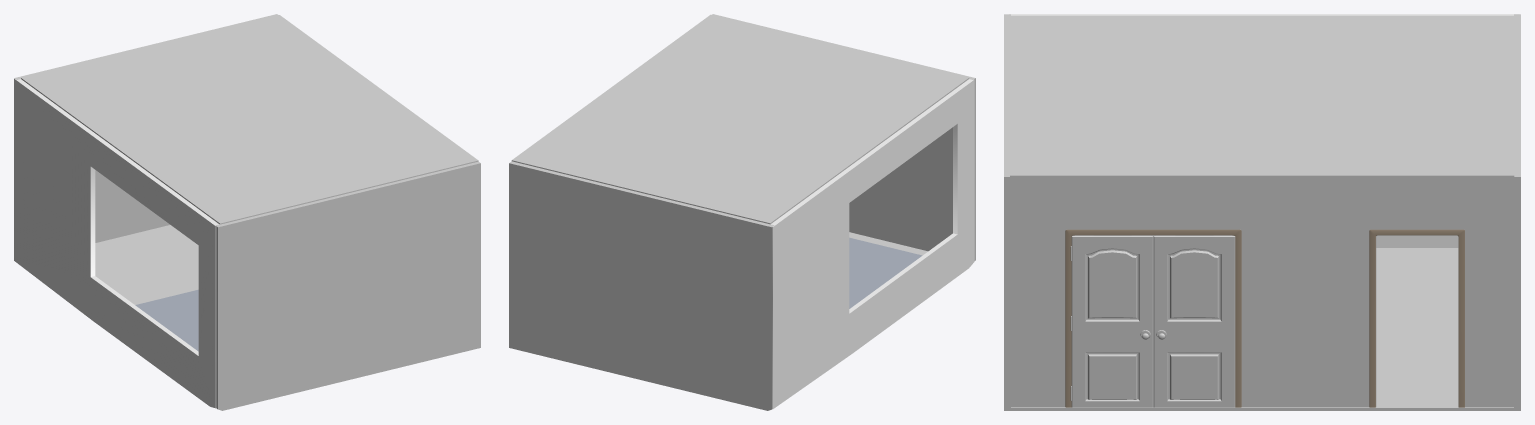
File: sm_room.fbx
3 renders of one model, left to right at view 1: azimuth 30°, elevation 25°; view 2: azimuth 150°, elevation 25°; view 3: azimuth 270°, elevation 25°, orthographic. The views are drawn at different scales.
Visible parts, largest first — view 1: polySurface347, pCube2, polySurface348, polySurface334, pCube19, polySurface335; view 2: polySurface347, pCube19, polySurface348, pCube2, polySurface335, polySurface334; view 3: polySurface347, polySurface371, door2 (×2), polySurface334, polySurface372, doorframe_s, pCube19, pCube2, polySurface348.
Boxes of the visible parts, <box> form: polySurface347: <box>21,15,478,224</box>; pCube2: <box>216,161,480,410</box>; polySurface348: <box>14,78,218,408</box>; polySurface334: <box>95,225,198,304</box>; pCube19: <box>14,14,277,242</box>; polySurface335: <box>135,289,198,351</box>; polySurface347: <box>511,14,969,224</box>; pCube19: <box>509,161,774,410</box>; polySurface348: <box>771,79,974,409</box>; pCube2: <box>712,14,975,260</box>; polySurface335: <box>849,237,922,308</box>; polySurface334: <box>849,232,927,255</box>; polySurface347: <box>1010,15,1514,178</box>; polySurface371: <box>1011,178,1513,407</box>; door2 (×2): <box>1071,235,1235,407</box>; polySurface334: <box>1010,248,1514,410</box>; polySurface372: <box>1065,229,1241,407</box>; doorframe_s: <box>1369,229,1464,407</box>; pCube19: <box>1514,14,1520,410</box>; pCube2: <box>1004,14,1010,410</box>; polySurface348: <box>1009,14,1519,247</box>.
Size of the model in its own units: 882 by 584 by 1162.
